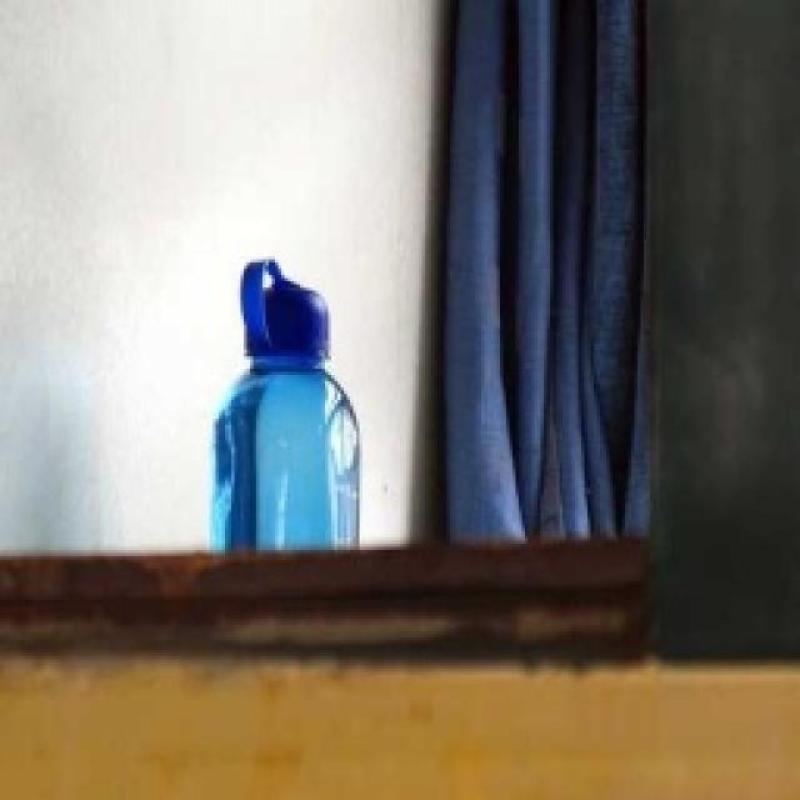botella: (218, 256, 362, 550)
